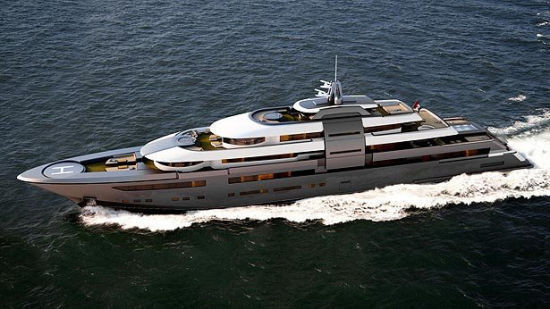yacht: (12, 59, 532, 214)
